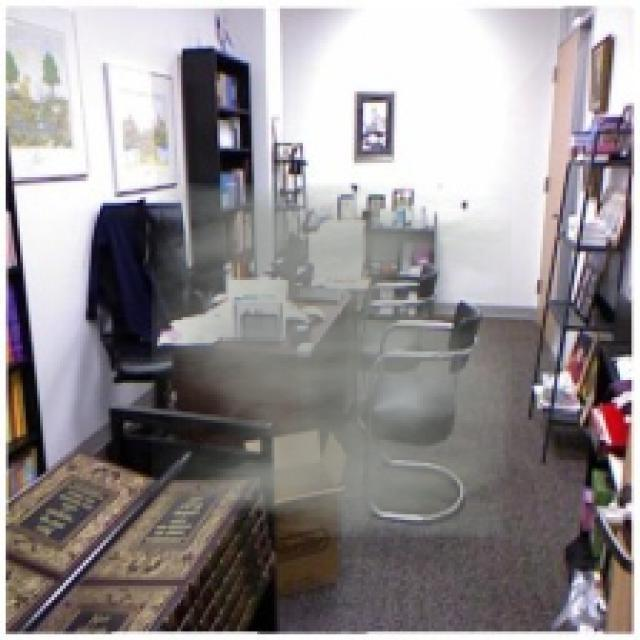Smoke: (152, 182, 512, 538)
